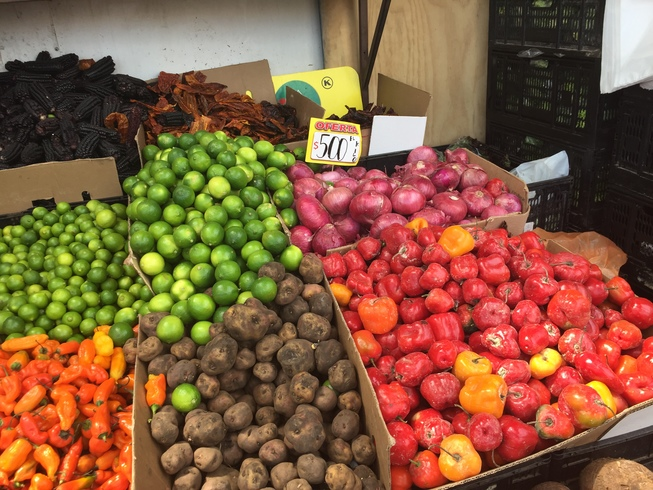precio: (302, 114, 364, 167)
